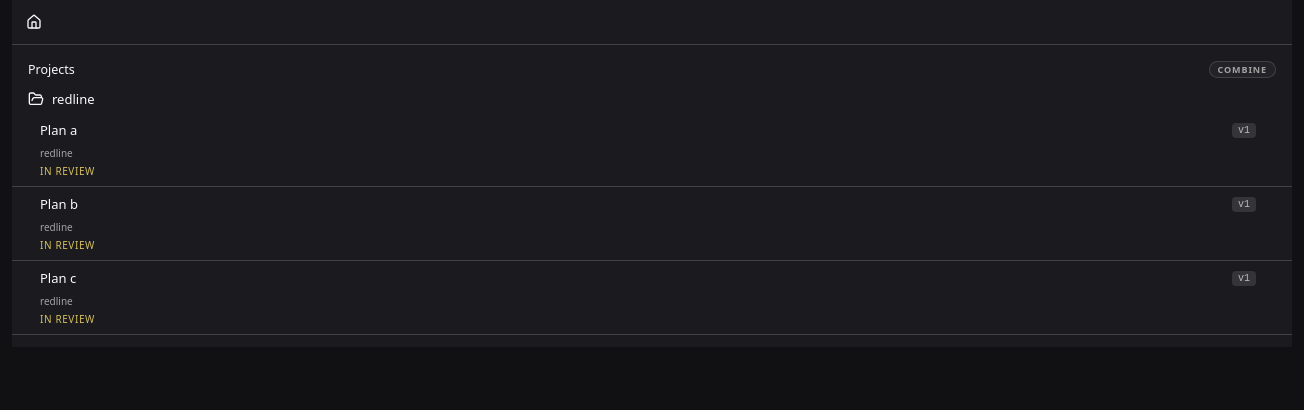
it: the grouped sidebar › Combine picks rows in order and hands them over in pick order
Click the button with class "rl-cmb-enter" at (1242, 69), box [1209,60,1276,78]
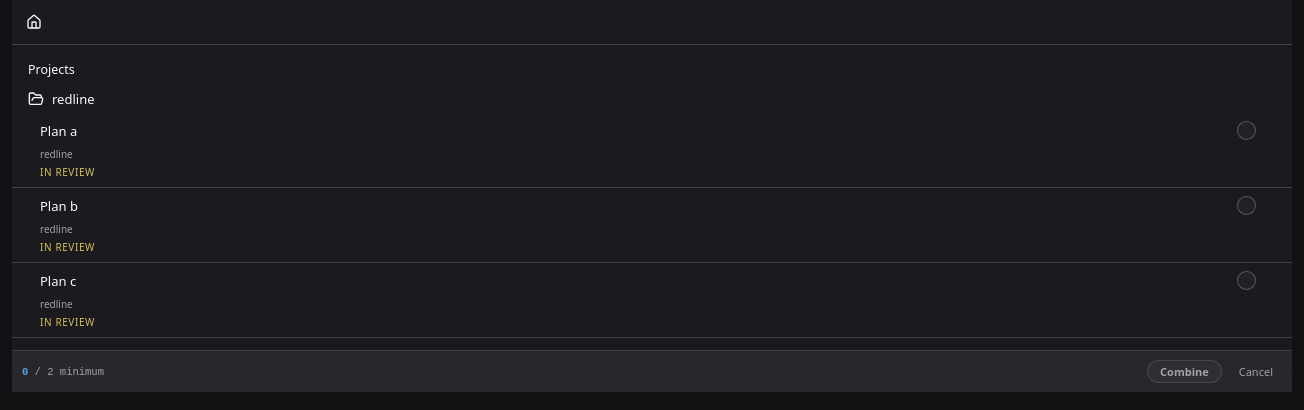
Click the button with class "hover-elevated" showing "Plan c redline in review" at (58, 280), box [12,263,1292,338]
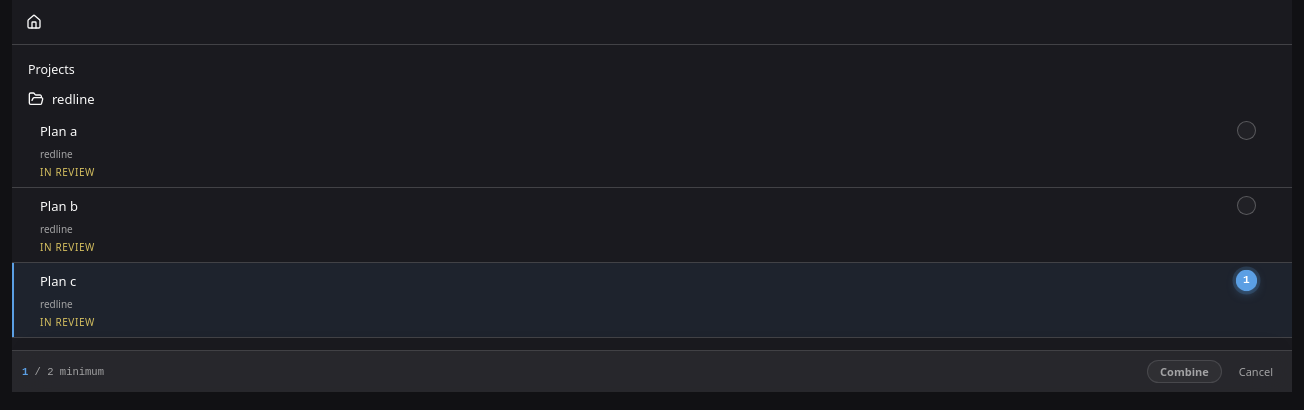
Click the button with class "hover-elevated" showing "Plan a redline in review" at (59, 130), box [12,113,1292,188]
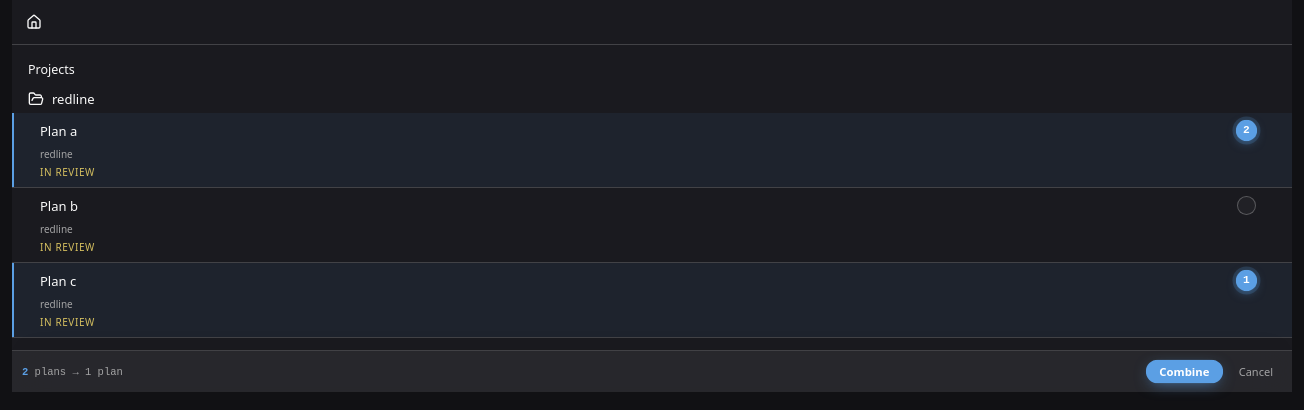
Result: the text with class "rl-cmb-node" reads "1" at [1243,274,1250,286]
Click the button with class "rl-cmb-go" at (1184, 372), box [1146,360,1223,383]
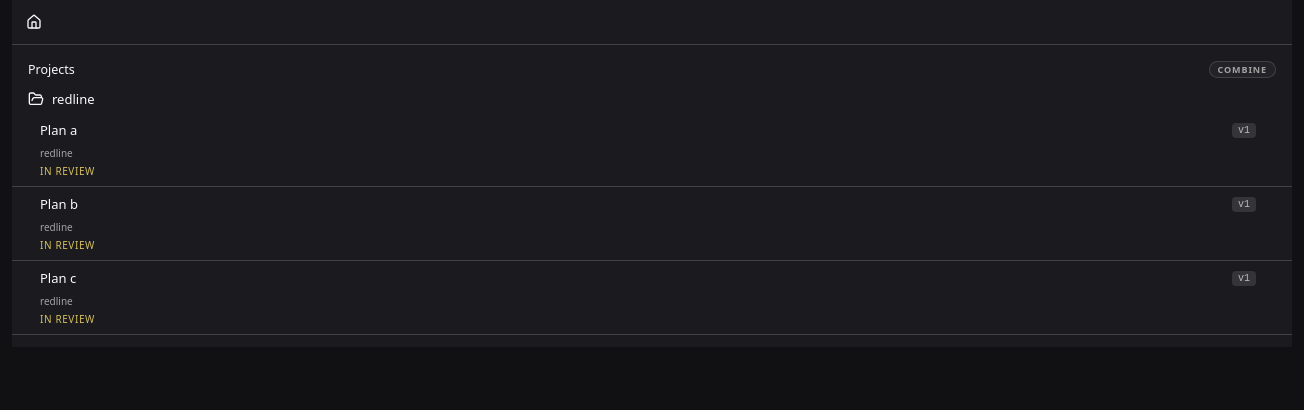
Result: the element with class "rl-cmb-bar" is gone
